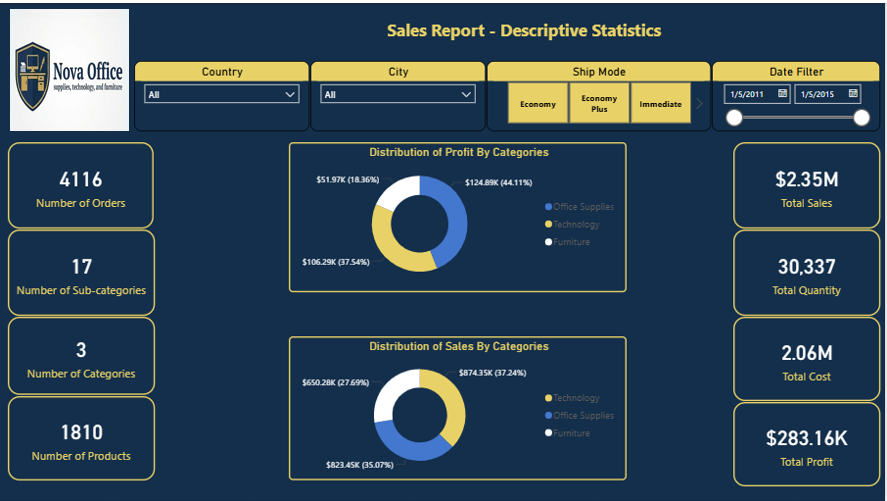

What the dashboard file says about the page in this screenshot:
{"tool":"powerbi","page":{"name":"Descriptive Stat R1","canvas":[1280,720],"ordinal":0},"visuals":[{"type":"textbox","box":[251.6,0,1015.8,83.5],"z":0},{"type":"slicer","title":"Date Filter ","fields":{"Values":["Dim_Date.Date"]},"box":[1030.4,83.6,243.8,102],"z":1000},{"type":"slicer","title":"Ship Mode ","fields":{"Values":["Dim_Ship Mode.Ship Mode"]},"box":[704.4,83.6,324.6,102],"z":2000},{"type":"slicer","title":"City","fields":{"Values":["Dim_City.City"]},"box":[449.3,83.6,253.7,102],"z":3000},{"type":"slicer","title":"Country","fields":{"Values":["Dim_City.City"]},"box":[194.2,83.6,253.7,102],"z":4000},{"type":"card","fields":{"Values":["-Measures.Total Sales"]},"box":[1061.6,201.3,212.6,124.7],"z":5000},{"type":"card","fields":{"Values":["-Measures.Total Profit"]},"box":[1061.6,576.9,212.6,121.9],"z":6000},{"type":"card","fields":{"Values":["-Measures.Total Cost"]},"box":[1061.6,453.5,212.6,121.9],"z":7000},{"type":"card","fields":{"Values":["-Measures.Total Quantity"]},"box":[1061.6,327.4,212.6,124.7],"z":8000},{"type":"card","fields":{"Values":["-Measures.Number of Orders"]},"box":[11.3,201.3,211.2,124.7],"z":9000},{"type":"card","fields":{"Values":["-Measures.Number of Sub-categories"]},"box":[11.3,327.4,212.6,124.7],"z":10000},{"type":"card","fields":{"Values":["-Measures.Number of Categories"]},"box":[11.3,453.5,212.6,113.4],"z":11000},{"type":"card","fields":{"Values":["-Measures.Number of Products"]},"box":[11.3,568.3,212.6,121.9],"z":12000},{"type":"donutChart","title":"Distribution of Sales By Categories","fields":{"Category":["Dim_Category.Category"],"Y":["-Measures.Total Sales"]},"box":[418.1,481.9,489,208.3],"z":13000},{"type":"donutChart","title":"Distribution of Profit By Categories","fields":{"Category":["Dim_Category.Category"],"Y":["-Measures.Total Profit"]},"box":[418.1,201.3,489,216.9],"z":14000}]}

Visuals, with their boxes in screenshot pixels (x1, y1, x2, y2), scaled from the page's 1280x720 canvas onto the 887x501 screenshot:
textbox: (left=174, top=0, right=878, bottom=58)
"Date Filter " slicer: (left=714, top=58, right=883, bottom=129)
"Ship Mode " slicer: (left=488, top=58, right=713, bottom=129)
"City" slicer: (left=311, top=58, right=487, bottom=129)
"Country" slicer: (left=135, top=58, right=310, bottom=129)
card - -Measures.Total Sales: (left=736, top=140, right=883, bottom=227)
card - -Measures.Total Profit: (left=736, top=401, right=883, bottom=486)
card - -Measures.Total Cost: (left=736, top=316, right=883, bottom=400)
card - -Measures.Total Quantity: (left=736, top=228, right=883, bottom=315)
card - -Measures.Number of Orders: (left=8, top=140, right=154, bottom=227)
card - -Measures.Number of Sub-categories: (left=8, top=228, right=155, bottom=315)
card - -Measures.Number of Categories: (left=8, top=316, right=155, bottom=394)
card - -Measures.Number of Products: (left=8, top=395, right=155, bottom=480)
"Distribution of Sales By Categories" donutChart: (left=290, top=335, right=629, bottom=480)
"Distribution of Profit By Categories" donutChart: (left=290, top=140, right=629, bottom=291)
